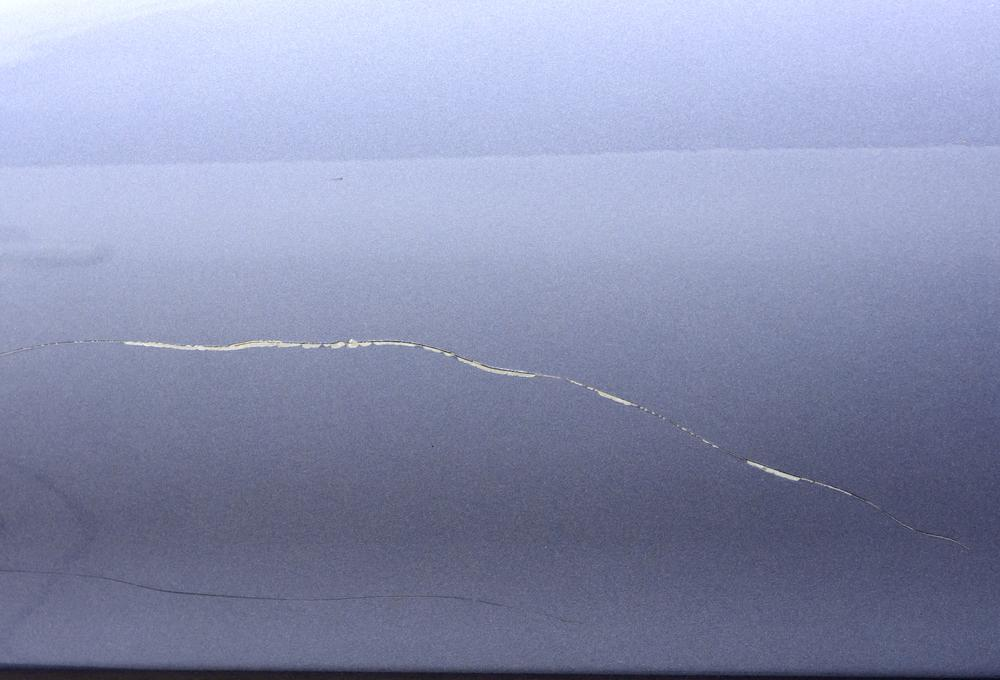scratch: (0, 335, 983, 561), (0, 566, 517, 614)
